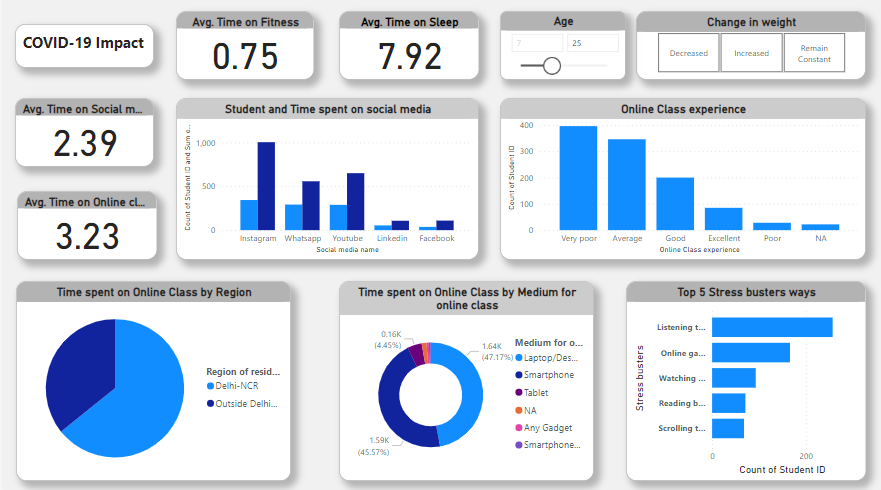

The page's visual inventory and layout, read from the dashboard file:
{"tool":"powerbi","page":{"name":"Page 1","canvas":[1280,720],"ordinal":0},"visuals":[{"type":"card","title":"Avg. Time on Fitness","fields":{"Values":["Student_Survey.Time spent on fitness"]},"box":[249.1,24.5,198.7,99.4],"z":0},{"type":"card","title":"Avg. Time on Sleep","fields":{"Values":["Student_Survey.Time spent on sleep"]},"box":[483.8,24.5,201.6,99.4],"z":1000},{"type":"card","title":"Avg. Time on Social media","fields":{"Values":["Student_Survey.Time spent on social media"]},"box":[17.3,149.8,200.2,99.4],"z":2000},{"type":"card","title":"Avg. Time on Online class","fields":{"Values":["Student_Survey.Time spent on Online Class"]},"box":[20.2,283.7,201.6,99.4],"z":3000},{"type":"slicer","title":"Change in weight","fields":{"Values":["Student_Survey.Change in your weight"]},"box":[911.5,24.5,331.2,99.4],"z":4000},{"type":"barChart","title":"Top 5 Stress busters ways","fields":{"Category":["Student_Survey.Stress busters"],"Y":["Student_Survey.Student ID"]},"box":[897.1,413.3,345.6,288],"z":5000},{"type":"clusteredColumnChart","title":"Student and Time spent on social media ","fields":{"Category":["Student_Survey.Social media name"],"Y":["Student_Survey.Student ID","Student_Survey.Time spent on social media"]},"box":[249.1,149.8,436.3,233.3],"z":6000},{"type":"columnChart","title":"Online Class experience","fields":{"Category":["Student_Survey.Online Class experience"],"Y":["Student_Survey.Student ID"]},"box":[715.7,149.8,527,233.3],"z":7000},{"type":"slicer","title":"Age","fields":{"Values":["Student_Survey.Age of Student"]},"box":[715.7,24.5,181.4,99.4],"z":8000},{"type":"pieChart","title":"Time spent on Online Class by Region","fields":{"Category":["Student_Survey.Region of residence"],"Y":["Student_Survey.Time spent on Online Class"]},"box":[18.7,413.3,396,288],"z":9000},{"type":"donutChart","title":"Time spent on Online Class by Medium for online class","fields":{"Category":["Student_Survey.Medium for online class"],"Y":["Student_Survey.Time spent on Online Class"]},"box":[483.8,413.3,367.2,288],"z":10000},{"type":"textbox","box":[17.3,43.2,200.2,63.4],"z":10001}]}

Visuals, with their boxes in screenshot pixels (x1, y1, x2, y2), scaled from the page's 1280x720 canvas onto the 881x490 screenshot:
"Avg. Time on Fitness" card: 171:17:308:84
"Avg. Time on Sleep" card: 333:17:472:84
"Avg. Time on Social media" card: 12:102:150:170
"Avg. Time on Online class" card: 14:193:153:261
"Change in weight" slicer: 627:17:855:84
"Top 5 Stress busters ways" barChart: 617:281:855:477
"Student and Time spent on social media " clusteredColumnChart: 171:102:472:261
"Online Class experience" columnChart: 493:102:855:261
"Age" slicer: 493:17:617:84
"Time spent on Online Class by Region" pieChart: 13:281:285:477
"Time spent on Online Class by Medium for online class" donutChart: 333:281:586:477
textbox: 12:29:150:73
